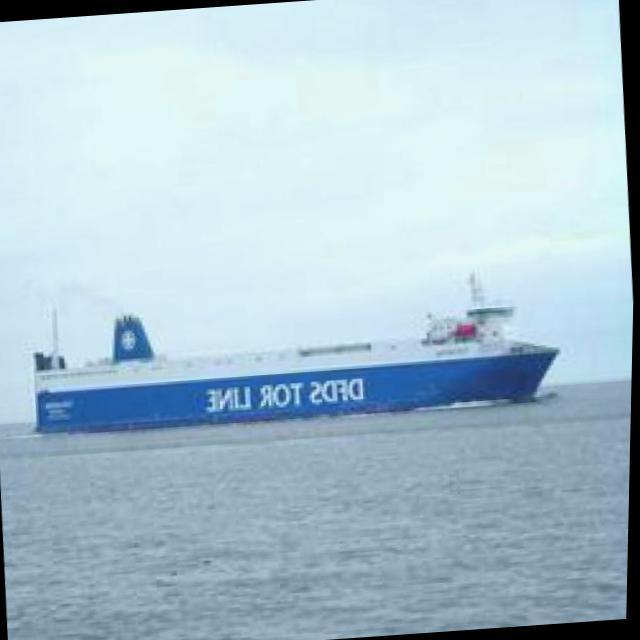ship2: (30, 270, 561, 436)
